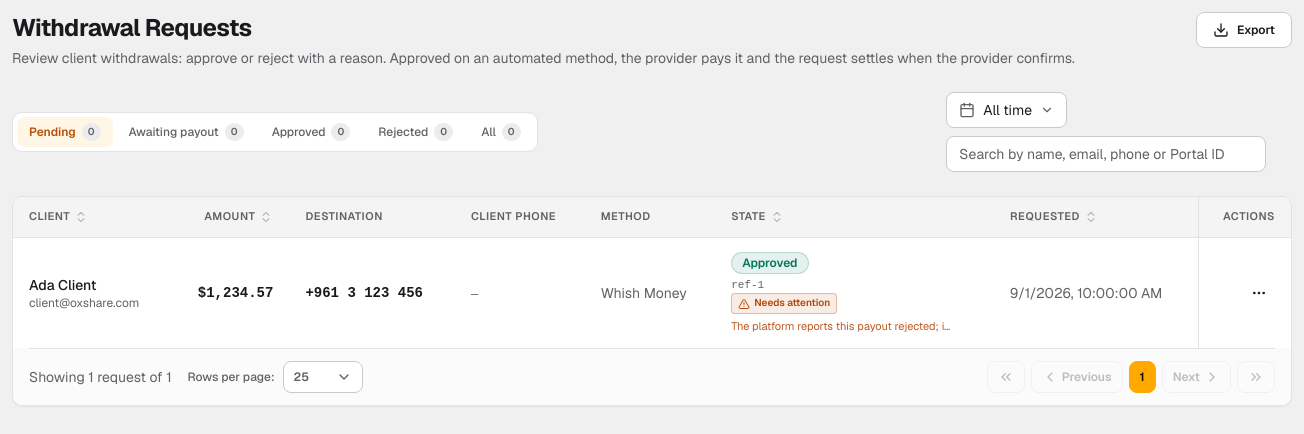
a payout only a person can settle › offers "Mark resolved" when the two platforms disagree about the outcome
The width and height of the screenshot is (1304, 434).
Click the button named "actions for ada client".
click(1259, 293)  # box [1243, 277, 1275, 309]
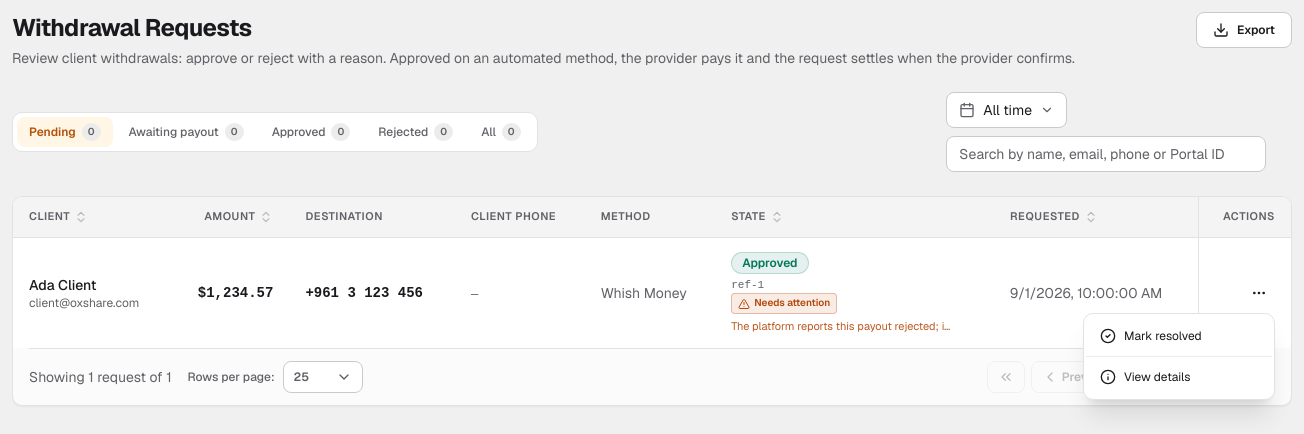
Check: the menu item "Mark resolved" is shown, box [1100, 328, 1202, 344]
